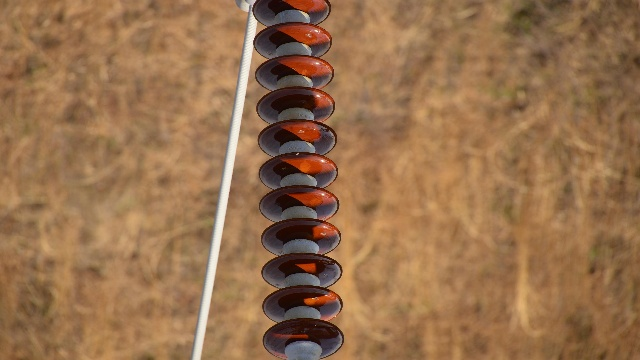insulator_unspecified: (252, 0, 346, 358)
pollution_flashover_local: (300, 158, 310, 175)
